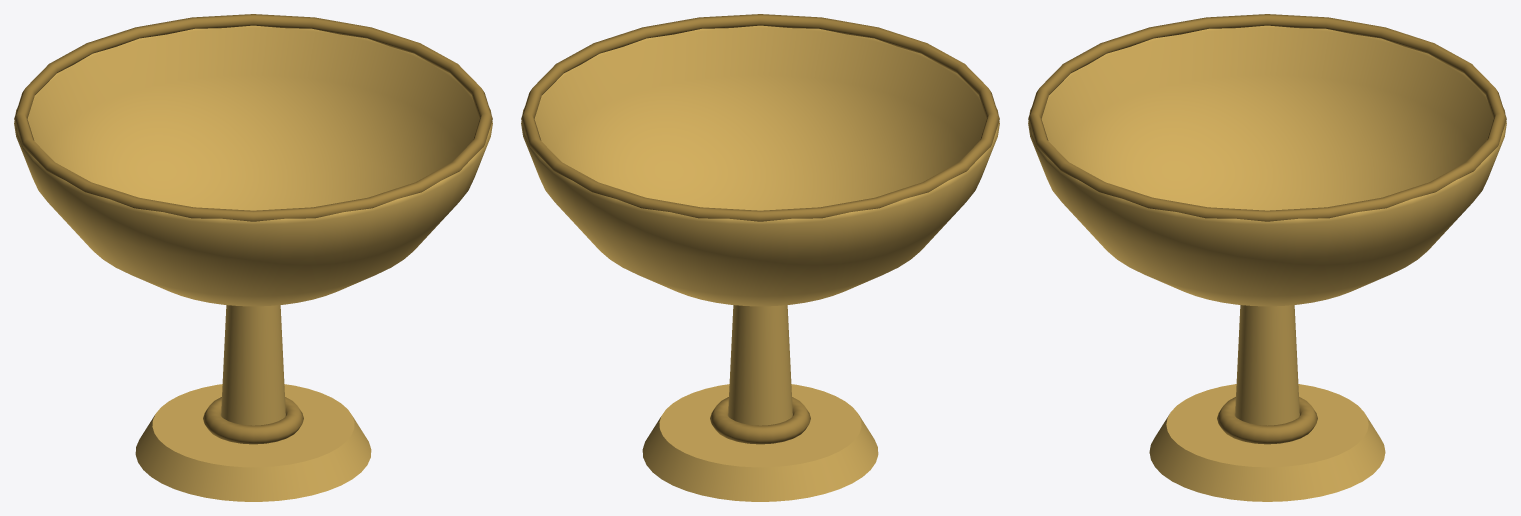
File: bowl_brass_footed.glb
The picture shows the model from 3 angles, left to right: view 1: azimuth 30°, elevation 25°; view 2: azimuth 150°, elevation 25°; view 3: azimuth 270°, elevation 25°; orthographic projection.
Visible parts, largest first — view 1: Raised brass serving bowl, Footed bowl round base, Footed bowl rolled rim, Footed bowl central stem, Pedestal lower molding; view 2: Raised brass serving bowl, Footed bowl round base, Footed bowl rolled rim, Footed bowl central stem, Pedestal lower molding; view 3: Raised brass serving bowl, Footed bowl round base, Footed bowl rolled rim, Footed bowl central stem, Pedestal lower molding.
Part boxes in pixels (x1,y1,x2,y2): Raised brass serving bowl: (14, 25, 492, 306); Footed bowl round base: (135, 384, 371, 501); Footed bowl rolled rim: (14, 14, 492, 221); Footed bowl central stem: (221, 305, 285, 425); Pedestal lower molding: (203, 397, 303, 444); Raised brass serving bowl: (521, 25, 999, 306); Footed bowl round base: (642, 384, 878, 501); Footed bowl rolled rim: (521, 14, 999, 221); Footed bowl central stem: (728, 305, 792, 425); Pedestal lower molding: (710, 397, 810, 444); Raised brass serving bowl: (1028, 25, 1506, 306); Footed bowl round base: (1149, 384, 1385, 501); Footed bowl rolled rim: (1028, 14, 1506, 221); Footed bowl central stem: (1235, 305, 1299, 425); Pedestal lower molding: (1217, 397, 1317, 444).
Size of the model in its own units: 0.284 by 0.2215 by 0.284.
